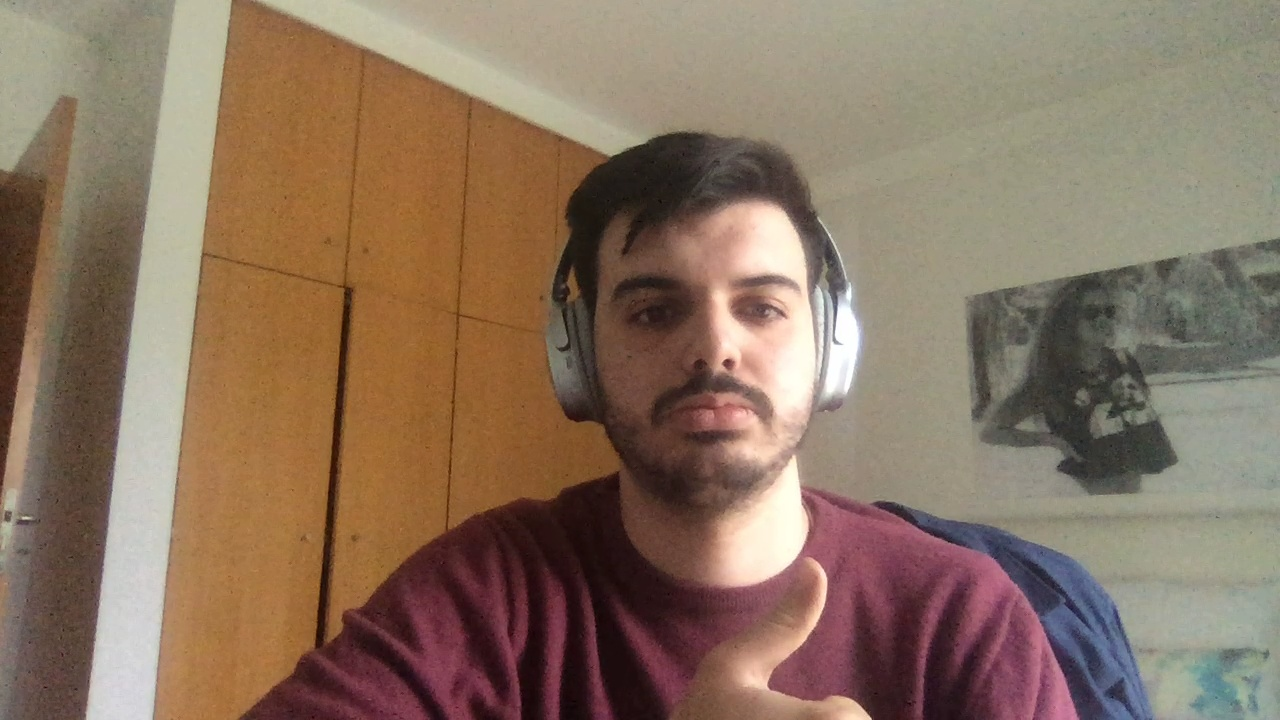ThumbsUp: (675, 557, 884, 720)
